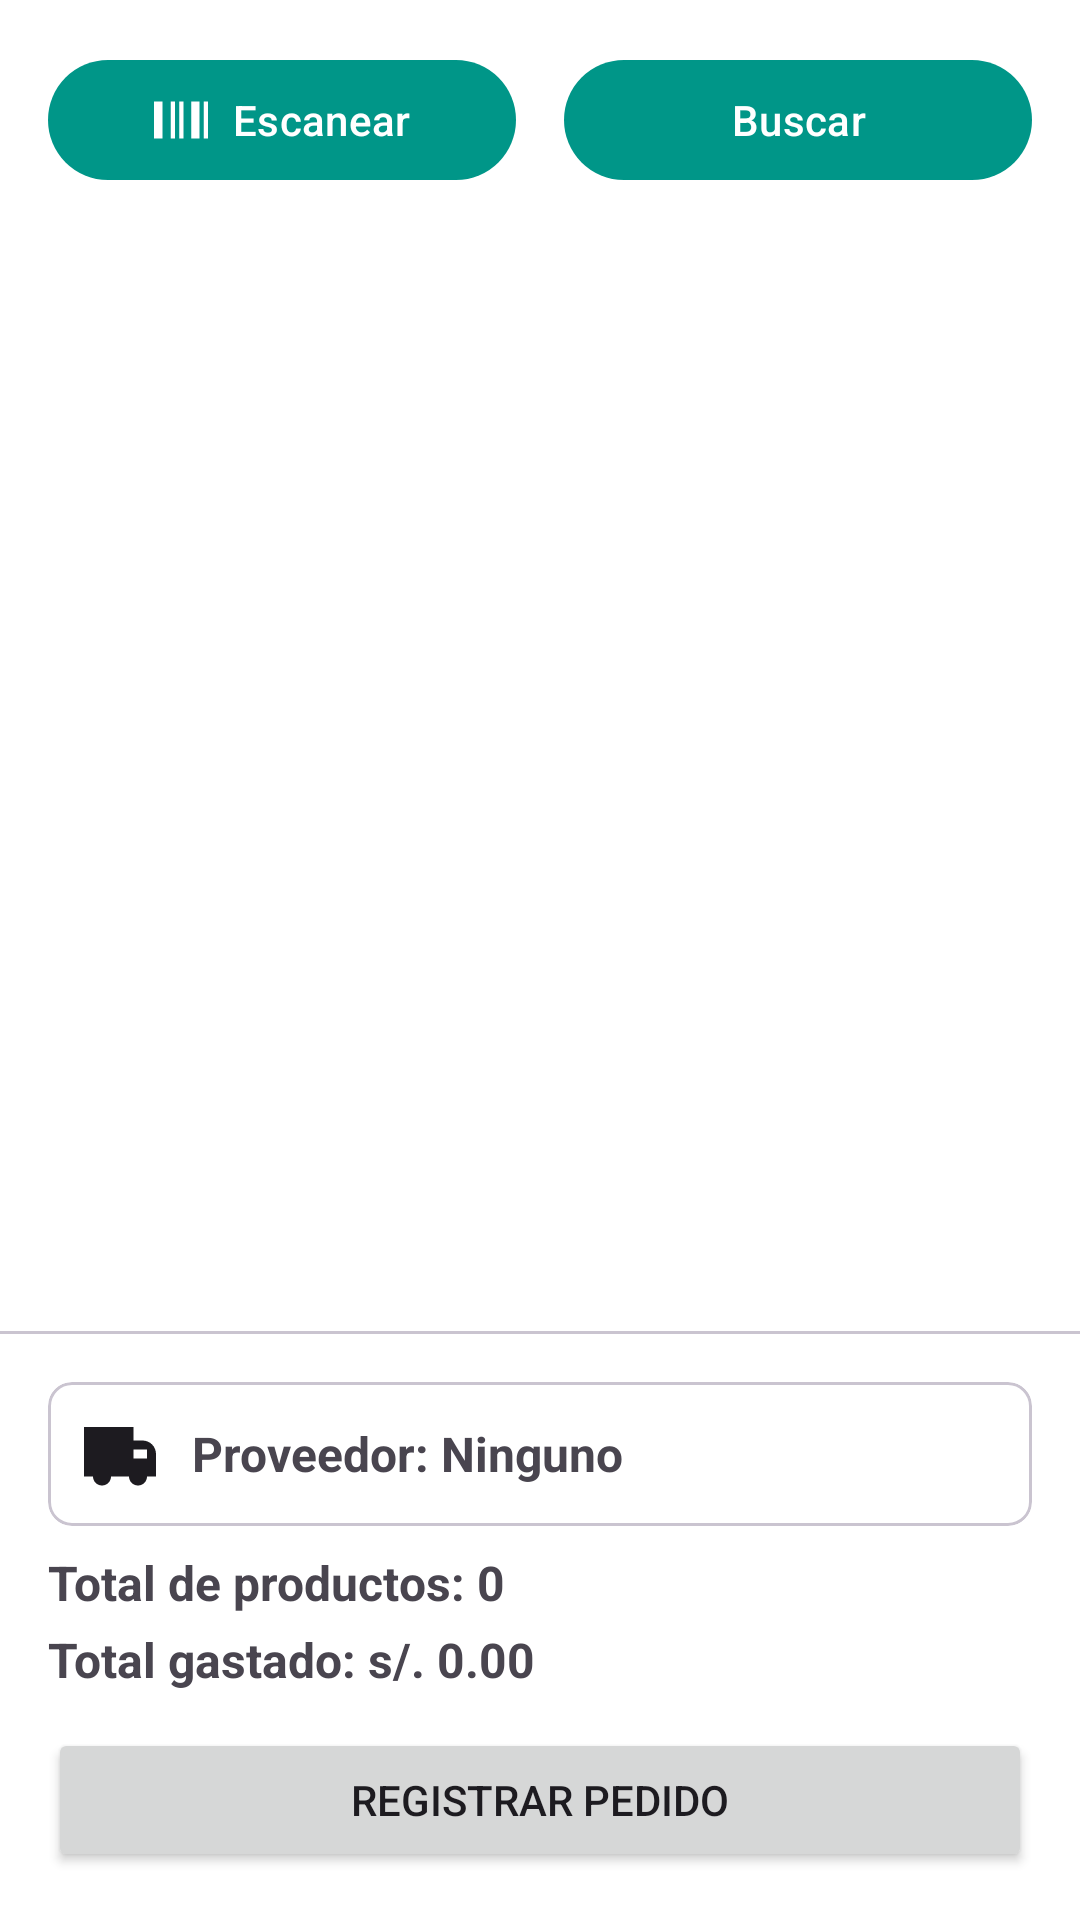

Icons on this 1080 x 1920 Android screen, each with the point to tap as (x=x, y=y):
truck: (x=120, y=1456)
